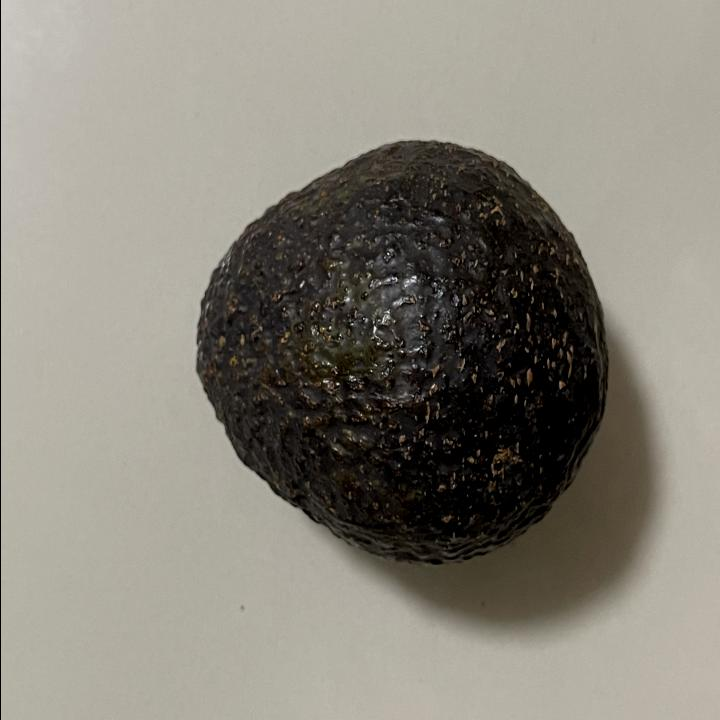Level3: (188, 130, 614, 574)
